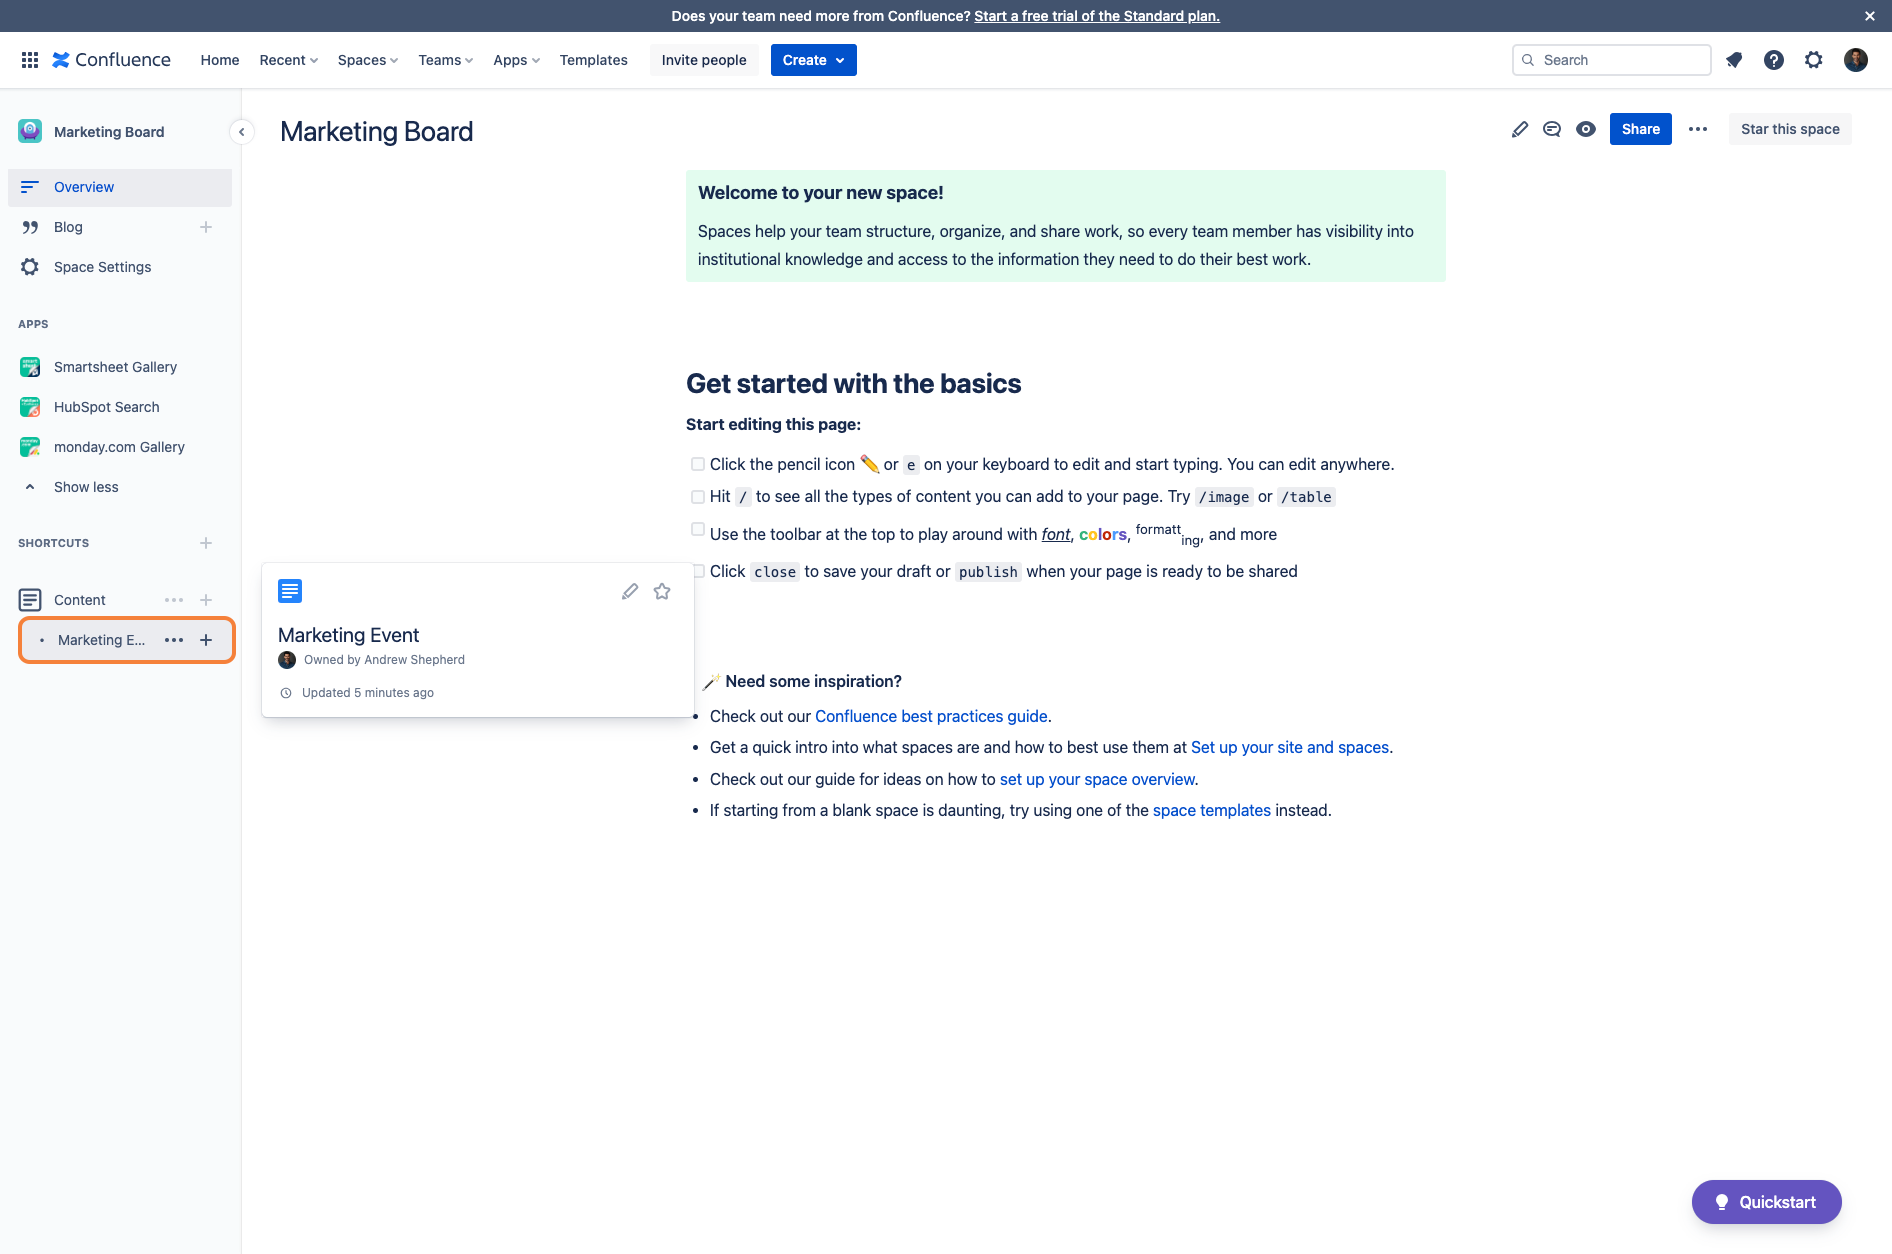button_create: (767, 48, 858, 77)
search_box: (1513, 38, 1714, 78)
